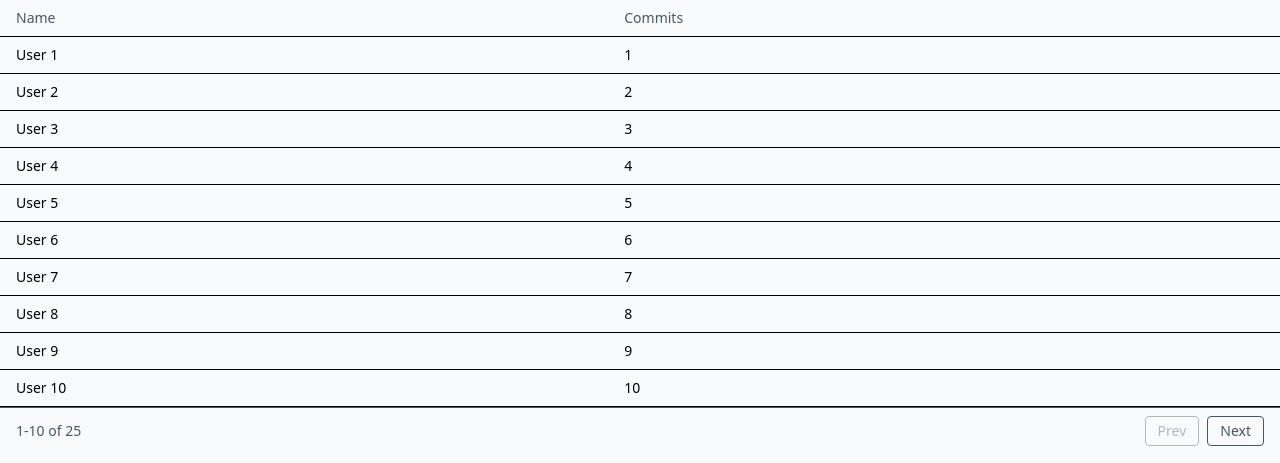
Test: DataTable › pagination › navigates to next page
This screenshot has width=1280, height=463.
Click the button "Next": click(1236, 431) [1207,416,1264,446]
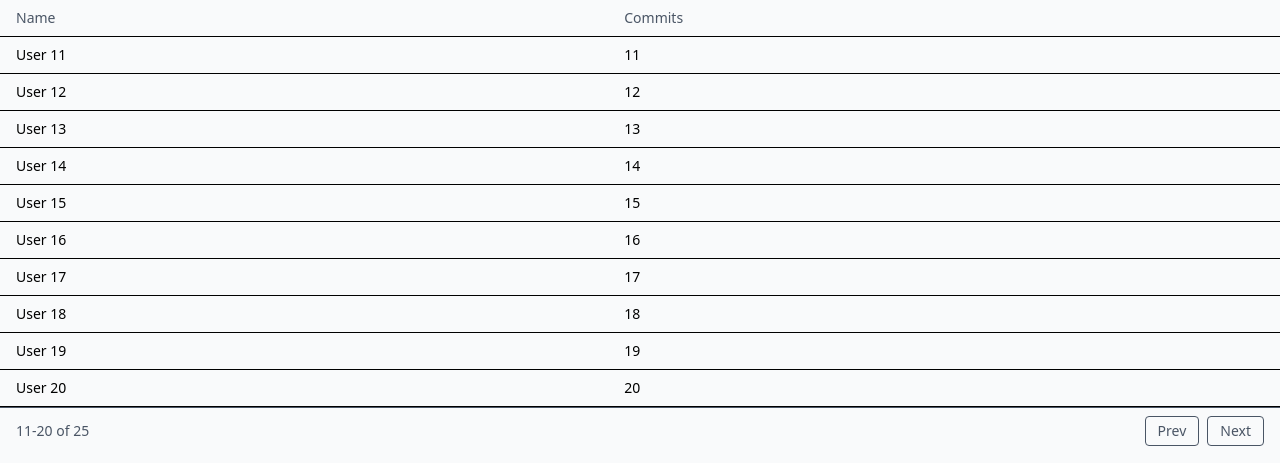
Check: the text "11-20 of 25" is shown, box [16,421,89,441]
